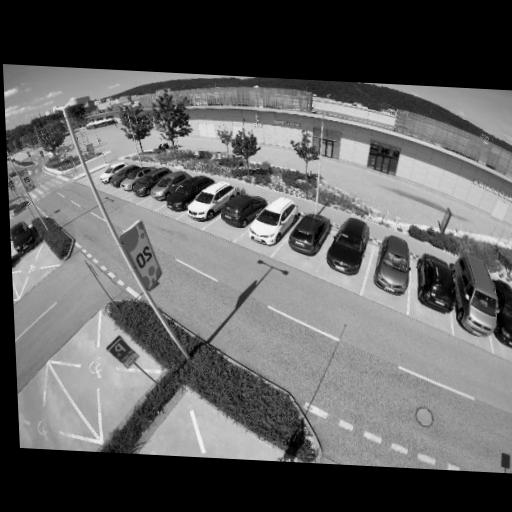busy: (455, 253, 502, 339), (321, 220, 374, 277), (372, 234, 417, 294), (246, 199, 298, 247), (413, 255, 456, 311), (284, 215, 331, 259), (188, 182, 234, 221), (164, 176, 210, 213), (218, 193, 262, 229), (12, 217, 39, 264), (149, 170, 188, 202), (128, 166, 168, 195), (494, 282, 512, 346), (98, 162, 132, 185), (111, 165, 140, 189)
free: (88, 165, 109, 183)
